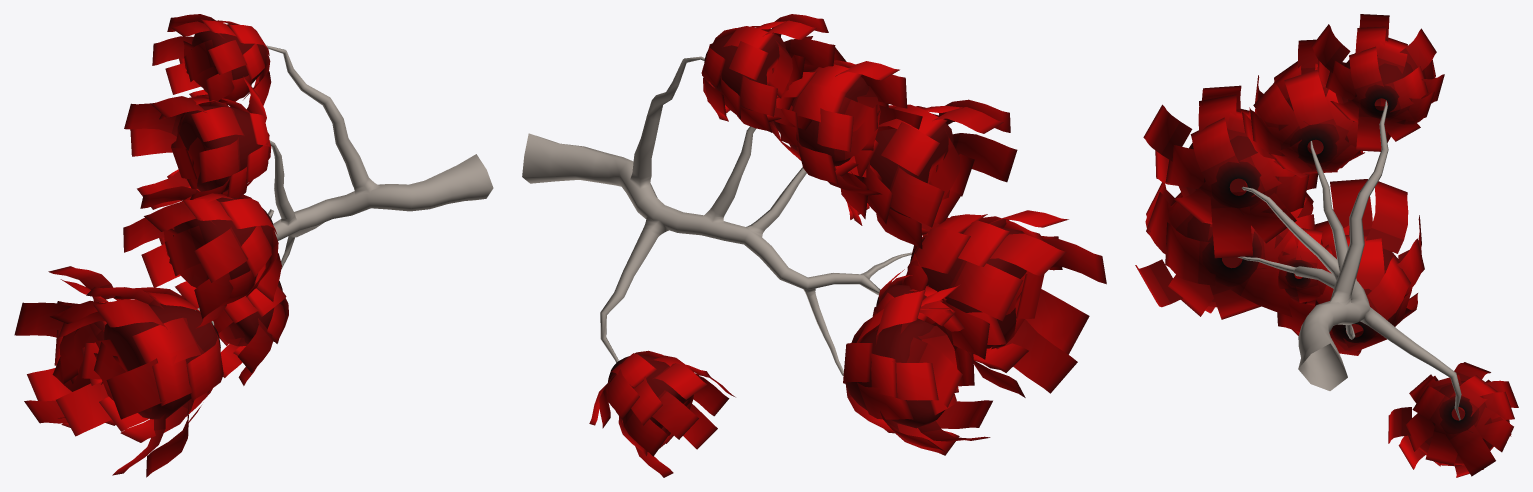
The model's file is SM_Pohutakawa.fbx.
3 views of the same model, side by side, from view 1: azimuth 30°, elevation 25°; view 2: azimuth 150°, elevation 25°; view 3: azimuth 270°, elevation 25° (orthographic). The views are drawn at different scales.
Parts seen in each view (by area): view 1: SM_Pohutakawa; view 2: SM_Pohutakawa; view 3: SM_Pohutakawa.
Boxes of the visible parts, x1,y1,x2,y2 form: SM_Pohutakawa: [14, 14, 493, 477]; SM_Pohutakawa: [522, 14, 1106, 477]; SM_Pohutakawa: [1135, 14, 1518, 477].
Bounding box in the file's own units: 7.76 × 11.19 × 9.4.
